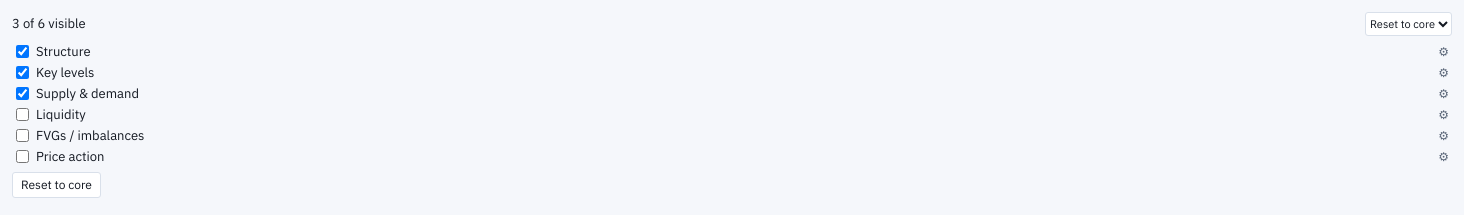
LayersPanel › shows n of 6 and toggles layers by label
Check: the text "3 of 6 visible" is shown, box [12, 15, 86, 33]
Click the checkbox labelled "Liquidity" at (22, 114), box [16, 108, 29, 121]
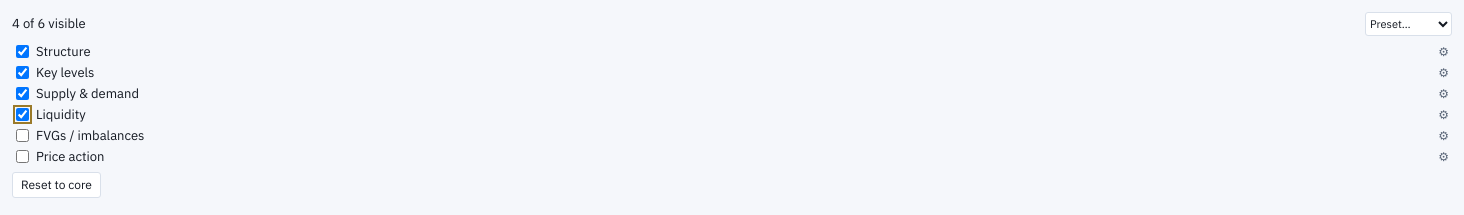
Check: the text "4 of 6 visible" is shown, box [12, 15, 86, 33]
